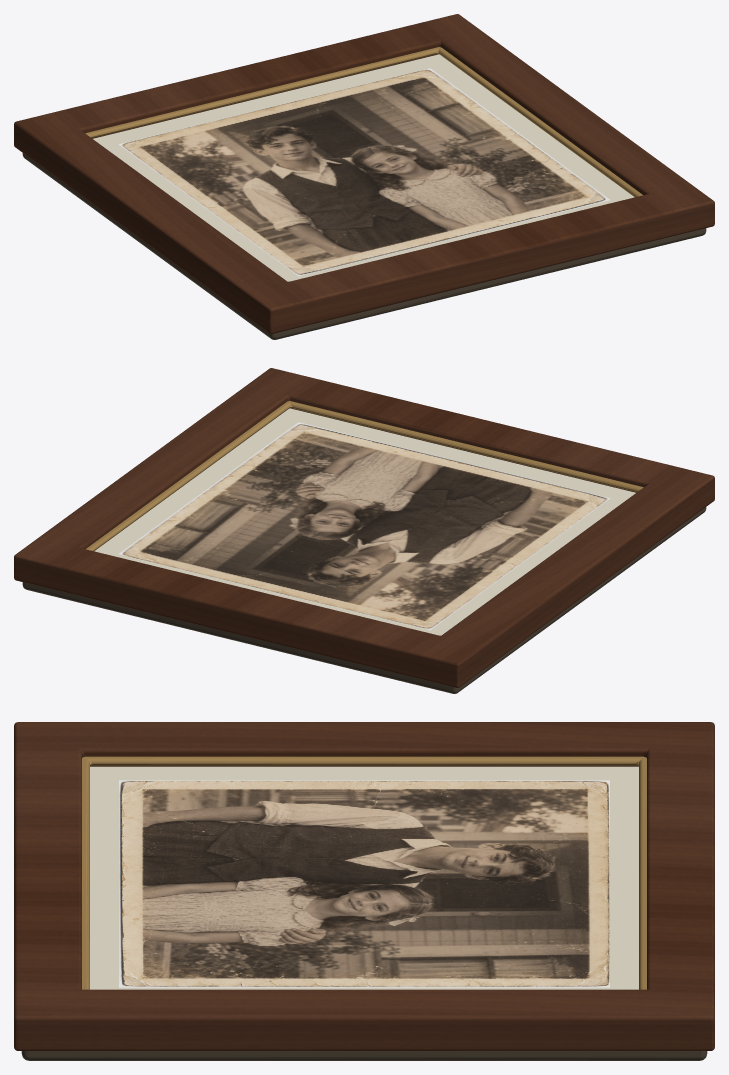
The model's file is SM_Collectible_PhotoFrame.glb.
The picture shows the model from 3 angles, top to bottom: view 1: azimuth 30°, elevation 25°; view 2: azimuth 150°, elevation 25°; view 3: azimuth 270°, elevation 25°; orthographic projection. The views are drawn at different scales.
Parts seen in each view (by area): view 1: SM_Collectible_PhotoFrame; view 2: SM_Collectible_PhotoFrame; view 3: SM_Collectible_PhotoFrame.
Part boxes in pixels (bbox=[...]): SM_Collectible_PhotoFrame: bbox=[14, 14, 714, 339]; SM_Collectible_PhotoFrame: bbox=[14, 368, 714, 693]; SM_Collectible_PhotoFrame: bbox=[14, 722, 714, 1060].
Size of the model in its own units: 0.18 by 0.0144 by 0.18.
Materials: 6 (3 with a texture image).
